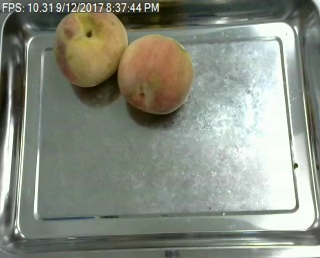Peach: (118, 32, 194, 114), (53, 4, 127, 87)
